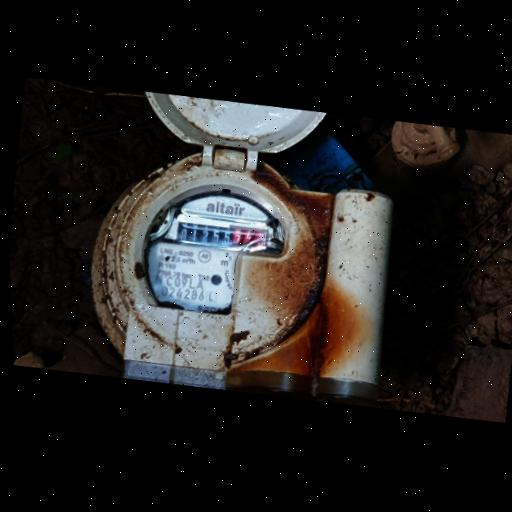0: (177, 221, 191, 242)
1: (188, 223, 202, 243)
2: (199, 224, 212, 244)
4: (242, 229, 255, 247)
5: (210, 226, 223, 245), (221, 227, 232, 246)
7: (231, 228, 244, 248)
border_water_meter_number: (172, 212, 270, 254)
